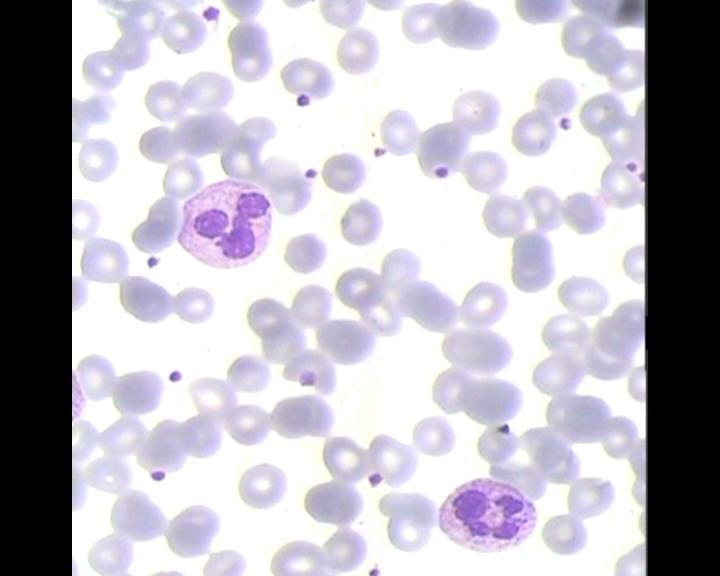neut: (177, 179, 276, 269), (433, 477, 544, 552)
